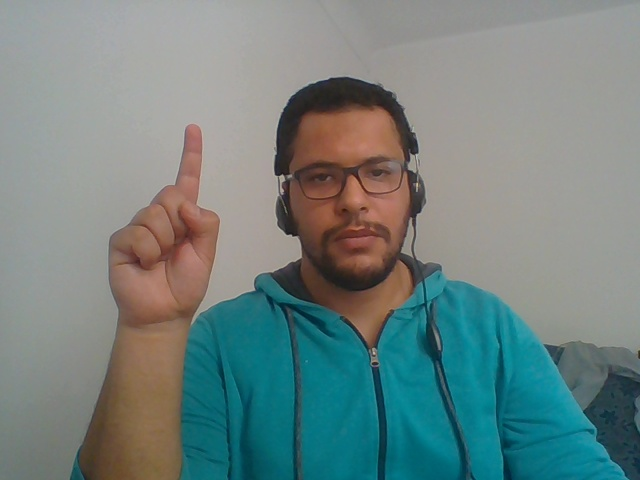handup: (81, 98, 232, 460)
